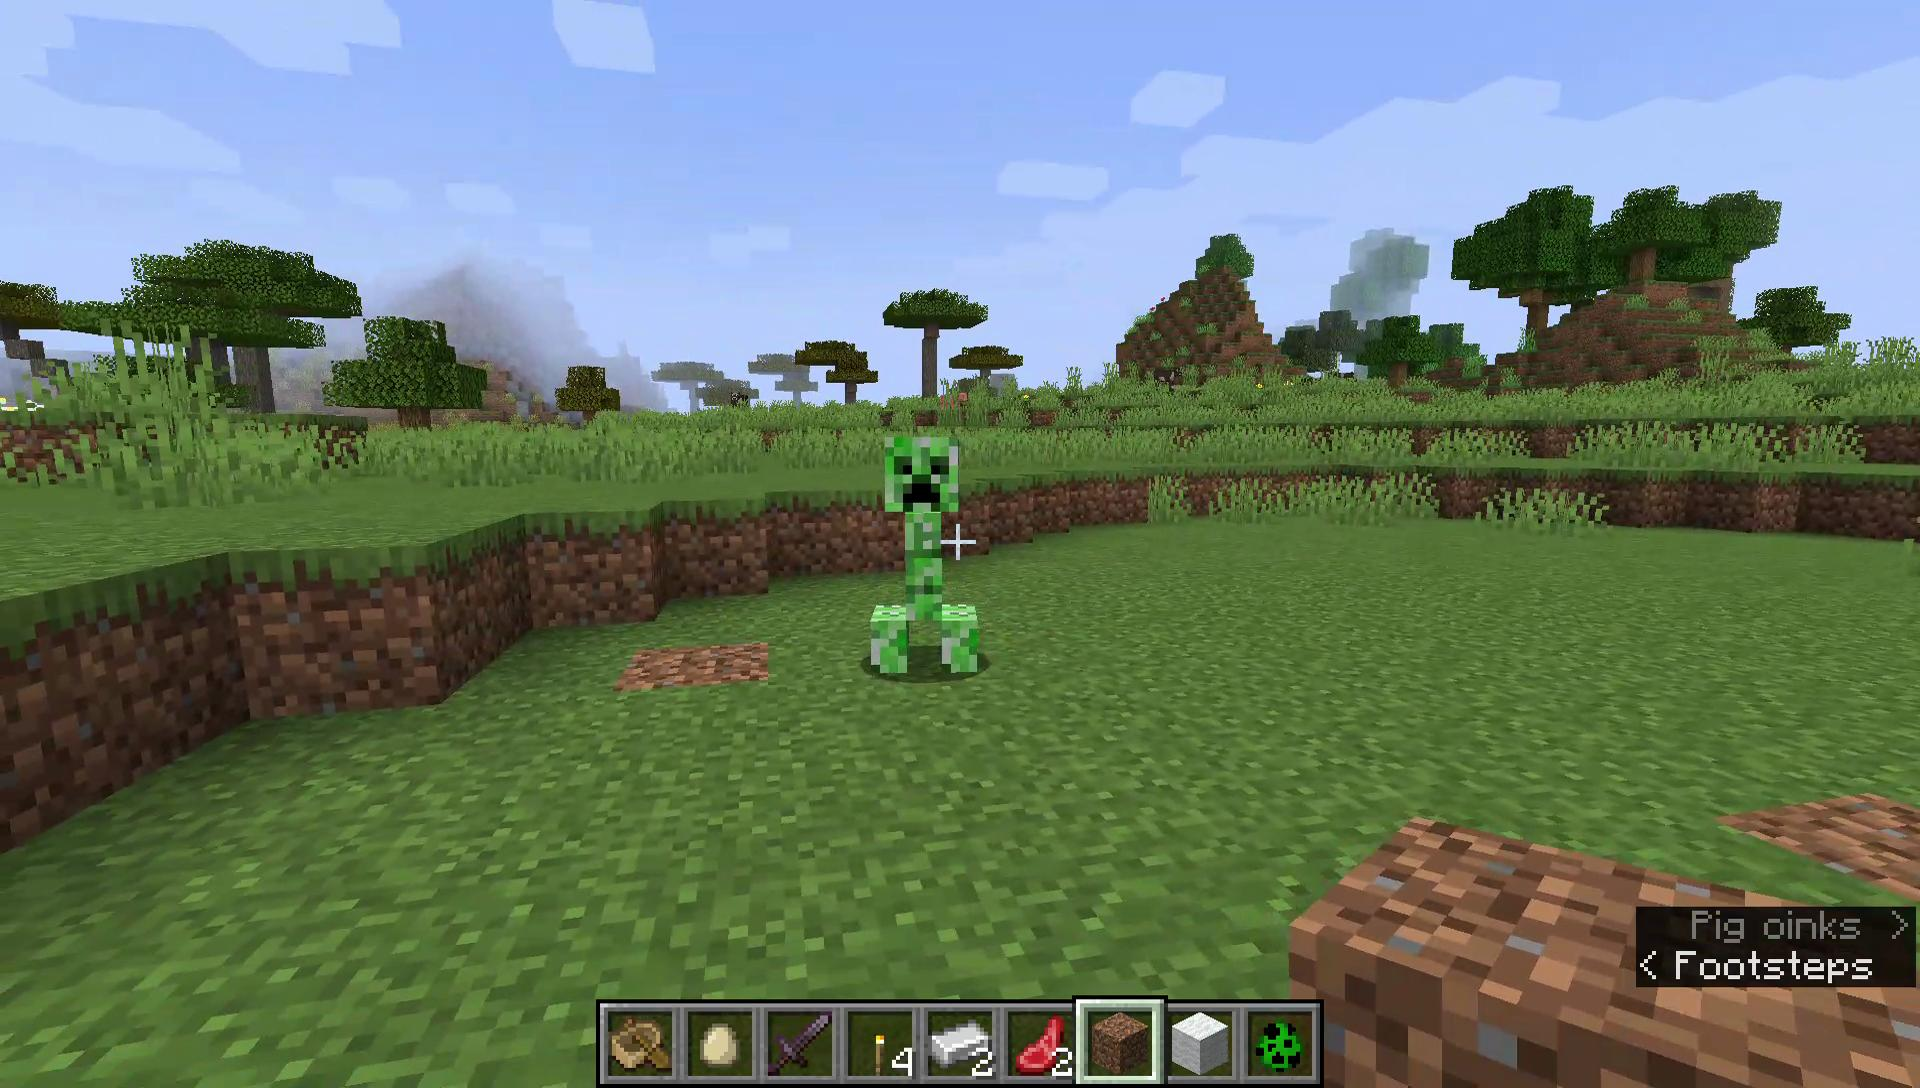creeper: (865, 429, 982, 686)
